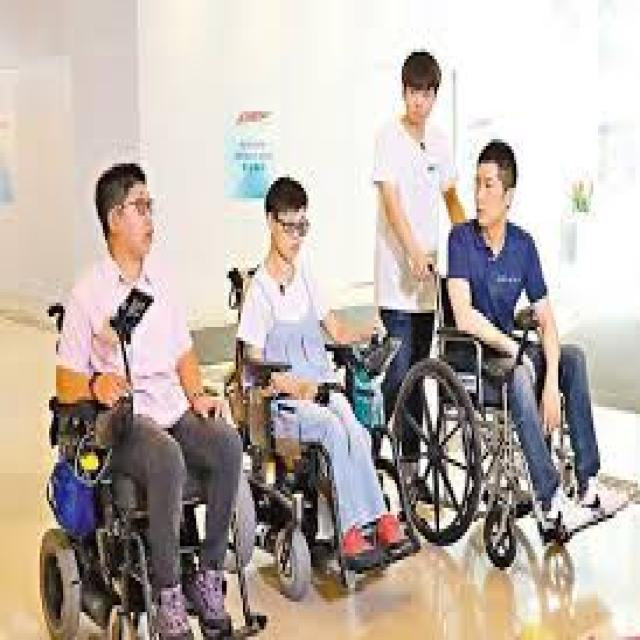wheelchairs: (16, 296, 252, 636), (409, 251, 621, 564), (220, 261, 416, 577)
